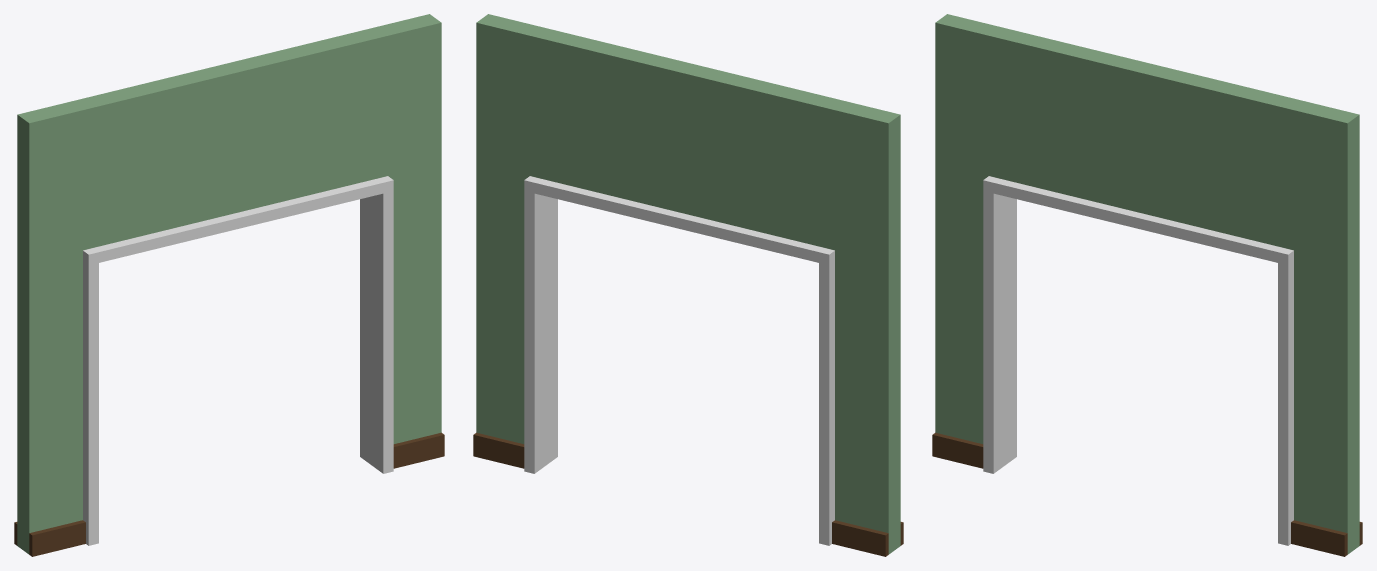
The model's file is h_wall_1_doorFrame2_4_2.fbx.
3 renders of one model, left to right at view 1: azimuth 30°, elevation 25°; view 2: azimuth 150°, elevation 25°; view 3: azimuth 330°, elevation 25°, orthographic.
Parts seen in each view (by area): view 1: Cube, DoorFrame; view 2: Cube, DoorFrame; view 3: Cube, DoorFrame.
Part boxes in pixels (bbox=[...]): Cube: bbox=[14, 14, 444, 556]; DoorFrame: bbox=[83, 176, 393, 545]; Cube: bbox=[473, 14, 903, 556]; DoorFrame: bbox=[524, 176, 834, 545]; Cube: bbox=[932, 14, 1362, 556]; DoorFrame: bbox=[983, 176, 1293, 545].
Bounding box in the file's own units: 400 × 400 × 39.37.
